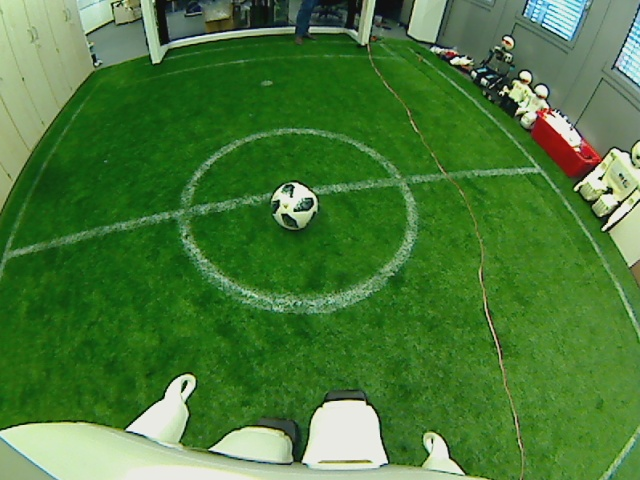ball: (269, 180, 321, 229)
